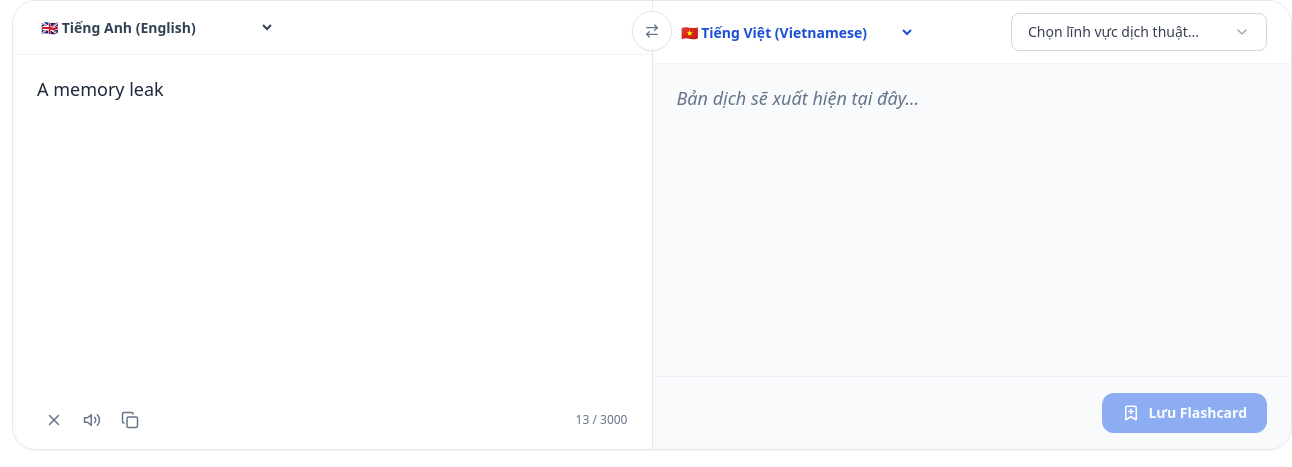
Test: TranslationBox - chế độ chuyên ngành › xóa hết văn bản thì xóa cảnh báo, huy hiệu và chỉ báo chờ
The width and height of the screenshot is (1292, 467).
Step 1. Click the text "Chọn lĩnh vực dịch thuật..." → [1114, 32], box [1028,22,1199,42]
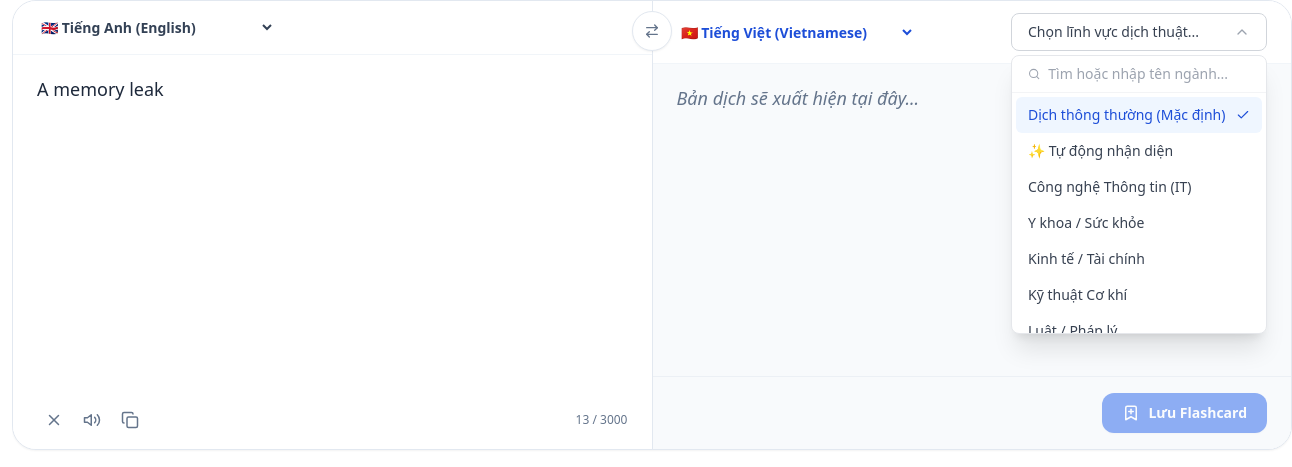
Step 2. Click the text "✨ Tự động nhận diện" → [1100, 151], box [1028,141,1173,161]
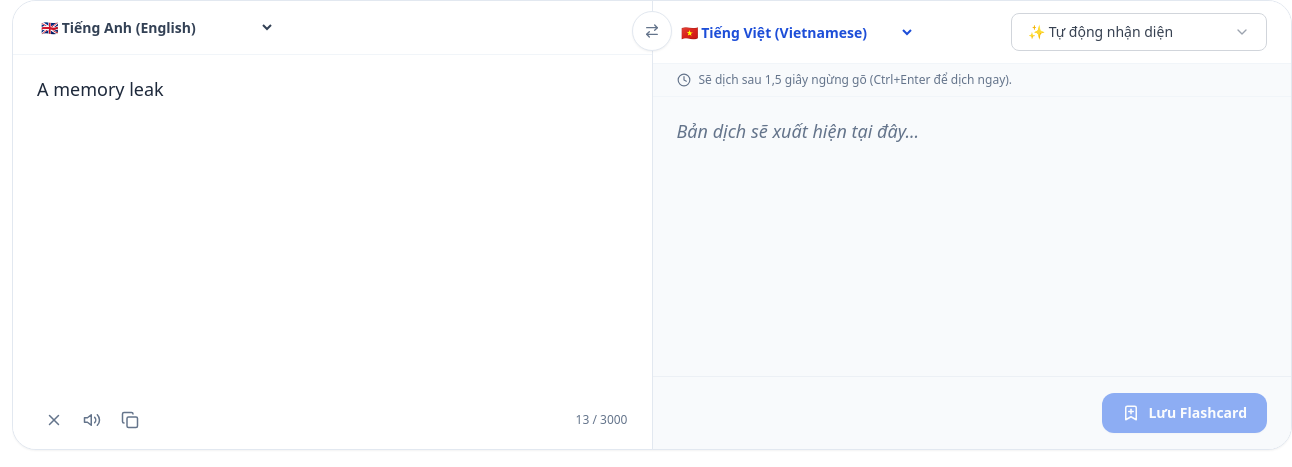
Result: the message "Sẽ dịch sau 1,5 giây ngừng gõ (Ctrl+Enter để dịch ngay)." is shown at [652,64,1291,97]
Step 3. Clear the text box with placeholder "Nhập văn bản cần dịch tại đây..." → [332, 223], box [13,55,652,391]
Wait 3000 ms
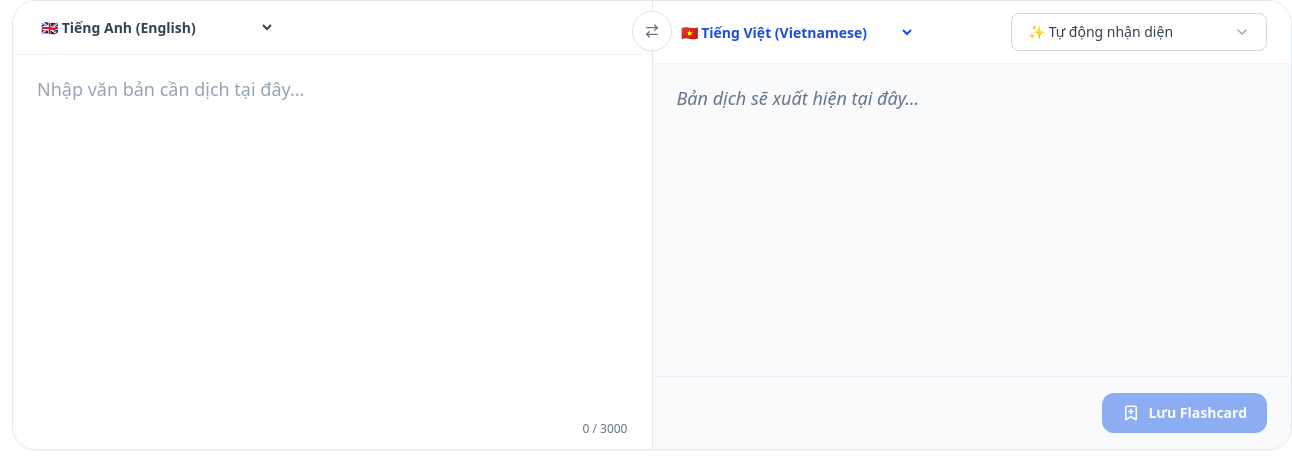
Result: the message with test id "domain-waiting" is gone
